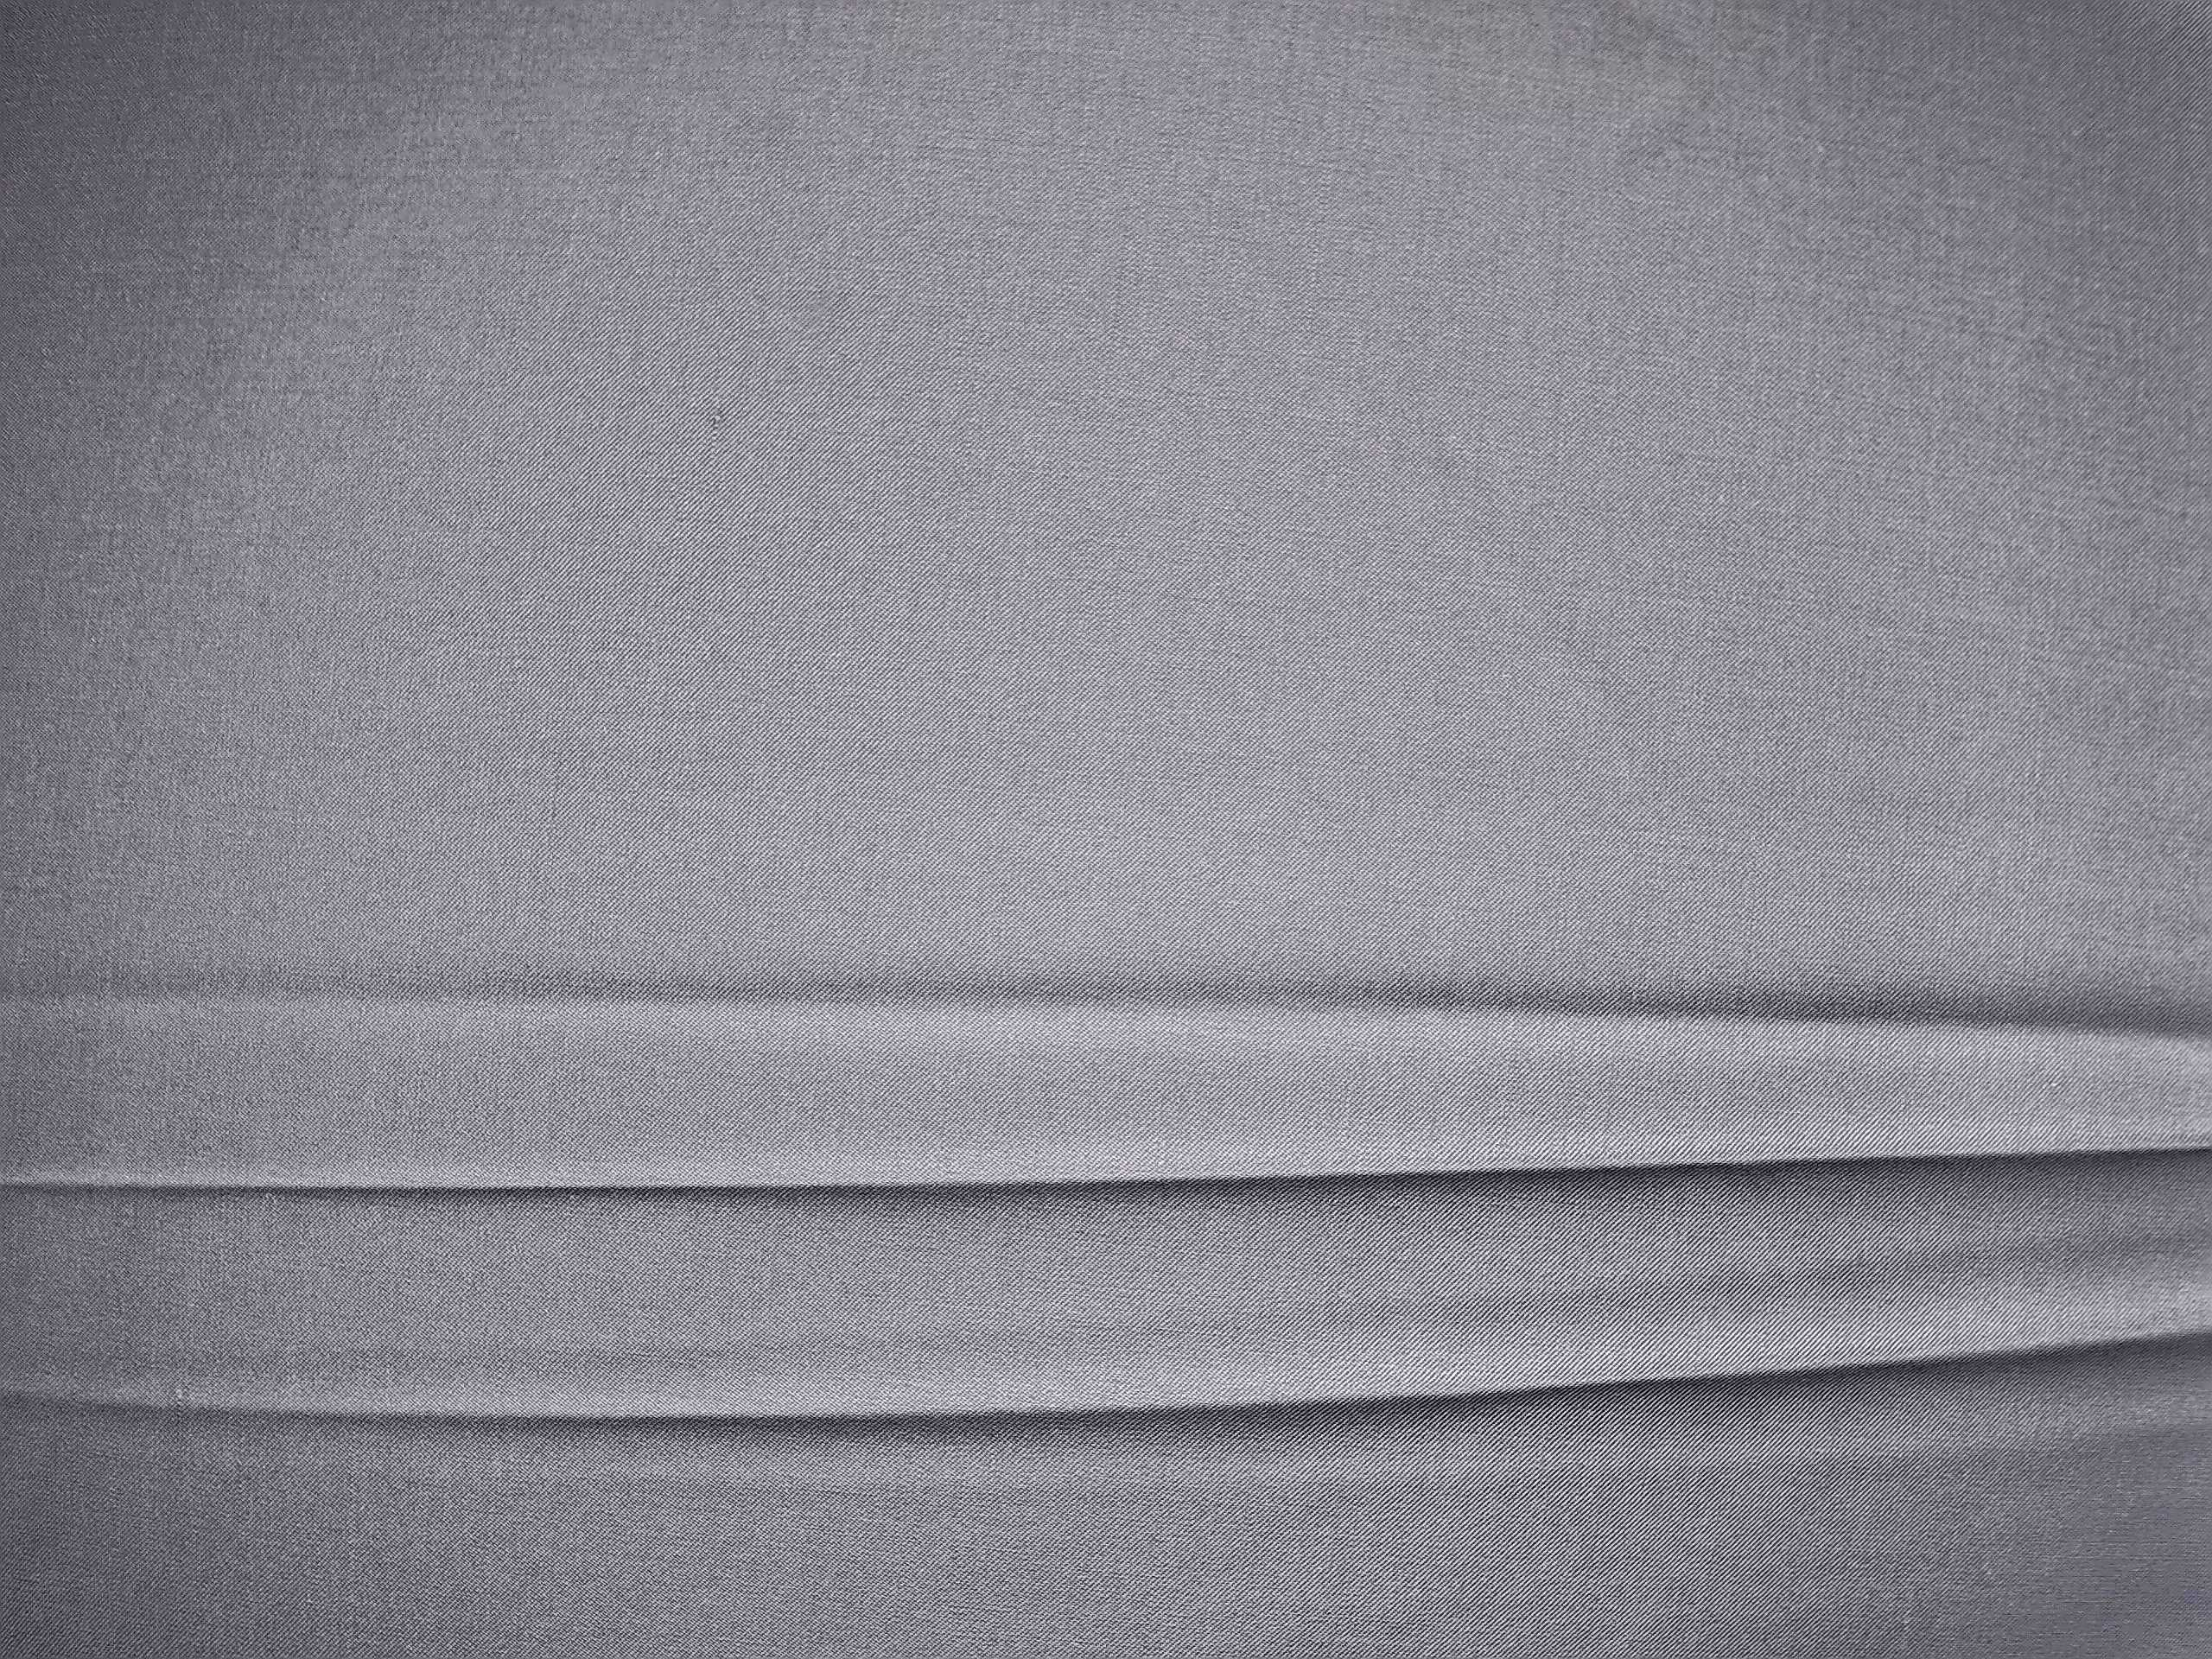others: (678, 366, 752, 467)
